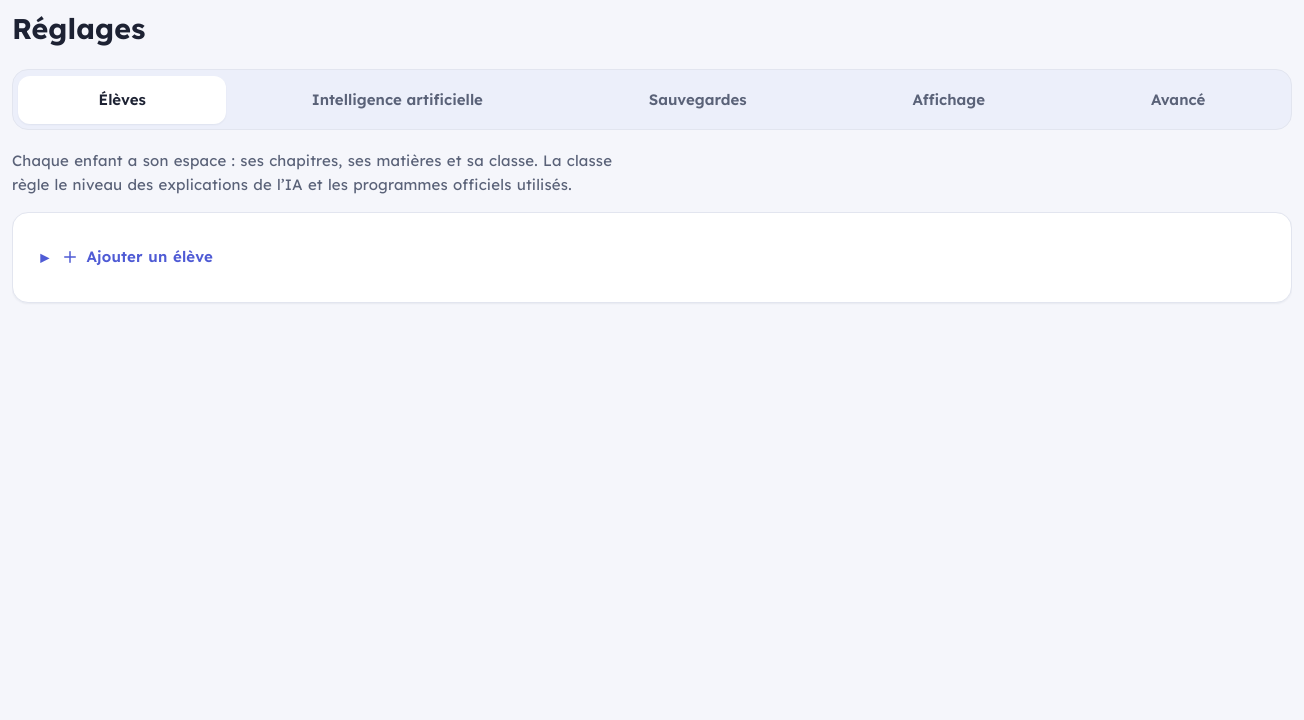
it: SettingsView › ouvre les élèves par défaut et change de rubrique en gardant l’onglet dans l’adresse
Expected: the panel is shown, [12,149,1292,303]
What coordinates should you click on to do the following:
click the tab "Sauvegardes"
I would click on:
 (698, 100)
Its box is [568,76,827,124].
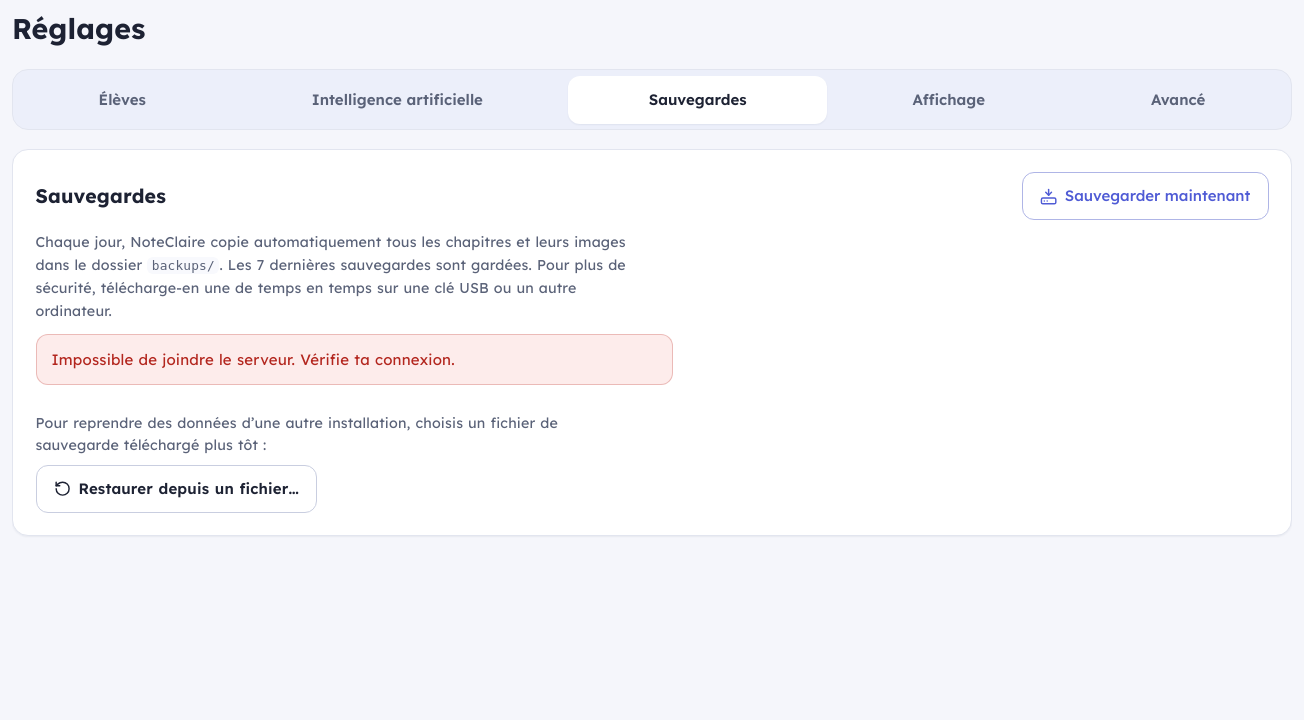
Expected: the element that starts with "Sauvegardes" is shown, [12,149,1292,536]
